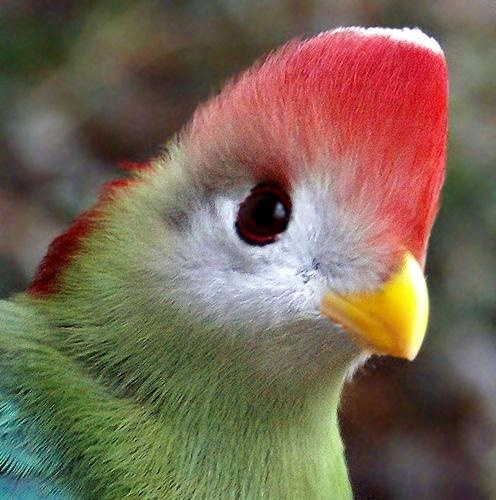bird: (1, 23, 451, 500)
